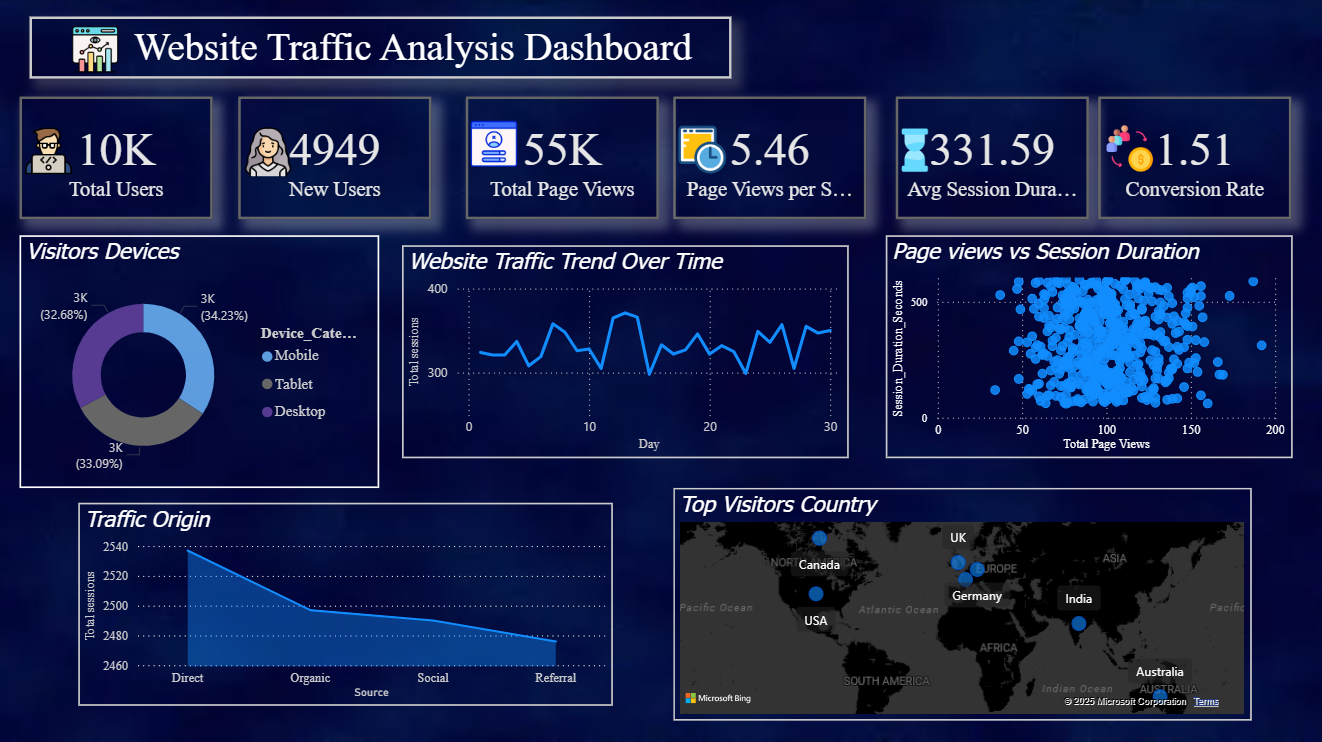

The dashboard page shown, as its layout file describes it:
{"tool":"powerbi","page":{"name":"Page 1","canvas":[1280,720],"ordinal":0},"visuals":[{"type":"textbox","box":[31.6,16.5,677.9,60.4],"z":0},{"type":"card","fields":{"Values":["web_marketing_data.Total Users"]},"box":[8.4,94.1,187,118.2],"z":1000},{"type":"lineChart","title":"Website Traffic Trend Over Time","fields":{"Category":["web_marketing_data.Date.Variation.Date Hierarchy.Day"],"Y":["web_marketing_data.Total sessions"]},"box":[391.1,237.4,430.9,205.8],"z":2000},{"type":"donutChart","title":"Visitors Devices","fields":{"Category":["web_marketing_data.Device_Category"],"Y":["web_marketing_data.Total Users"]},"box":[12.1,228,357.1,243.7],"z":3000},{"type":"map","title":"Top Visitors Country","fields":{"Size":["web_marketing_data.Total Users","select"],"Category":["web_marketing_data.Country"]},"box":[398.1,459.7,440.4,231.6],"z":4000},{"type":"scatterChart","title":"Page views vs Session Duration","fields":{"X":["web_marketing_data.Total Page Views"],"Y":["web_marketing_data.Session_Duration_Seconds"]},"box":[857.8,228,410.2,214.7],"z":5000},{"type":"stackedAreaChart","title":"Traffic Origin","fields":{"Category":["web_marketing_data.Source"],"Y":["web_marketing_data.Total sessions"]},"box":[12.1,499.5,358.3,191.8],"z":6000},{"type":"card","fields":{"Values":["web_marketing_data.Avg Session Duration"]},"box":[851.7,94.1,211.1,118.2],"z":7000},{"type":"card","fields":{"Values":["web_marketing_data.New Users"]},"box":[203.9,94.1,206.3,118.2],"z":8000},{"type":"card","fields":{"Values":["web_marketing_data.Conversion Rate"]},"box":[1081,89.3,187,118.2],"z":9000},{"type":"card","fields":{"Values":["web_marketing_data.Page Views per Session"]},"box":[623.7,94.1,214.7,118.2],"z":10000},{"type":"card","fields":{"Values":["web_marketing_data.Total Page Views"]},"box":[419.8,94.1,187,118.2],"z":11000},{"type":"image","box":[12.1,117,50.7,59.1],"z":12000},{"type":"image","box":[203.9,113.4,57.9,59.1],"z":13000},{"type":"image","box":[1081,119.4,61.5,54.3],"z":14000},{"type":"image","box":[624.9,111,56.7,68.8],"z":15000},{"type":"image","box":[419.8,119.4,43.4,56.7],"z":16000},{"type":"image","box":[851.7,111,56.7,67.6],"z":17000},{"type":"image","box":[63.1,20.6,64.5,56.3],"z":18000},{"type":"lineStackedColumnComboChart","title":"Top Performing Campaigns","fields":{"Category":["web_marketing_data.Campaign"],"Y":["Sum(web_marketing_data.Revenue)"]},"box":[851.7,459.7,416.2,244.9],"z":19000}]}

Visuals, with their boxes in screenshot pixels (x1, y1, x2, y2), scaled from the page's 1280x720 canvas onto the 1322x742 screenshot:
textbox: {"x1": 33, "y1": 17, "x2": 733, "y2": 79}
card - web_marketing_data.Total Users: {"x1": 9, "y1": 97, "x2": 202, "y2": 219}
"Website Traffic Trend Over Time" lineChart: {"x1": 404, "y1": 245, "x2": 849, "y2": 457}
"Visitors Devices" donutChart: {"x1": 12, "y1": 235, "x2": 381, "y2": 486}
"Top Visitors Country" map: {"x1": 411, "y1": 474, "x2": 866, "y2": 712}
"Page views vs Session Duration" scatterChart: {"x1": 886, "y1": 235, "x2": 1310, "y2": 456}
"Traffic Origin" stackedAreaChart: {"x1": 12, "y1": 515, "x2": 383, "y2": 712}
card - web_marketing_data.Avg Session Duration: {"x1": 880, "y1": 97, "x2": 1098, "y2": 219}
card - web_marketing_data.New Users: {"x1": 211, "y1": 97, "x2": 424, "y2": 219}
card - web_marketing_data.Conversion Rate: {"x1": 1116, "y1": 92, "x2": 1310, "y2": 214}
card - web_marketing_data.Page Views per Session: {"x1": 644, "y1": 97, "x2": 866, "y2": 219}
card - web_marketing_data.Total Page Views: {"x1": 434, "y1": 97, "x2": 627, "y2": 219}
image: {"x1": 12, "y1": 121, "x2": 65, "y2": 181}
image: {"x1": 211, "y1": 117, "x2": 270, "y2": 178}
image: {"x1": 1116, "y1": 123, "x2": 1180, "y2": 179}
image: {"x1": 645, "y1": 114, "x2": 704, "y2": 185}
image: {"x1": 434, "y1": 123, "x2": 478, "y2": 181}
image: {"x1": 880, "y1": 114, "x2": 938, "y2": 184}
image: {"x1": 65, "y1": 21, "x2": 132, "y2": 79}
"Top Performing Campaigns" lineStackedColumnComboChart: {"x1": 880, "y1": 474, "x2": 1310, "y2": 726}
